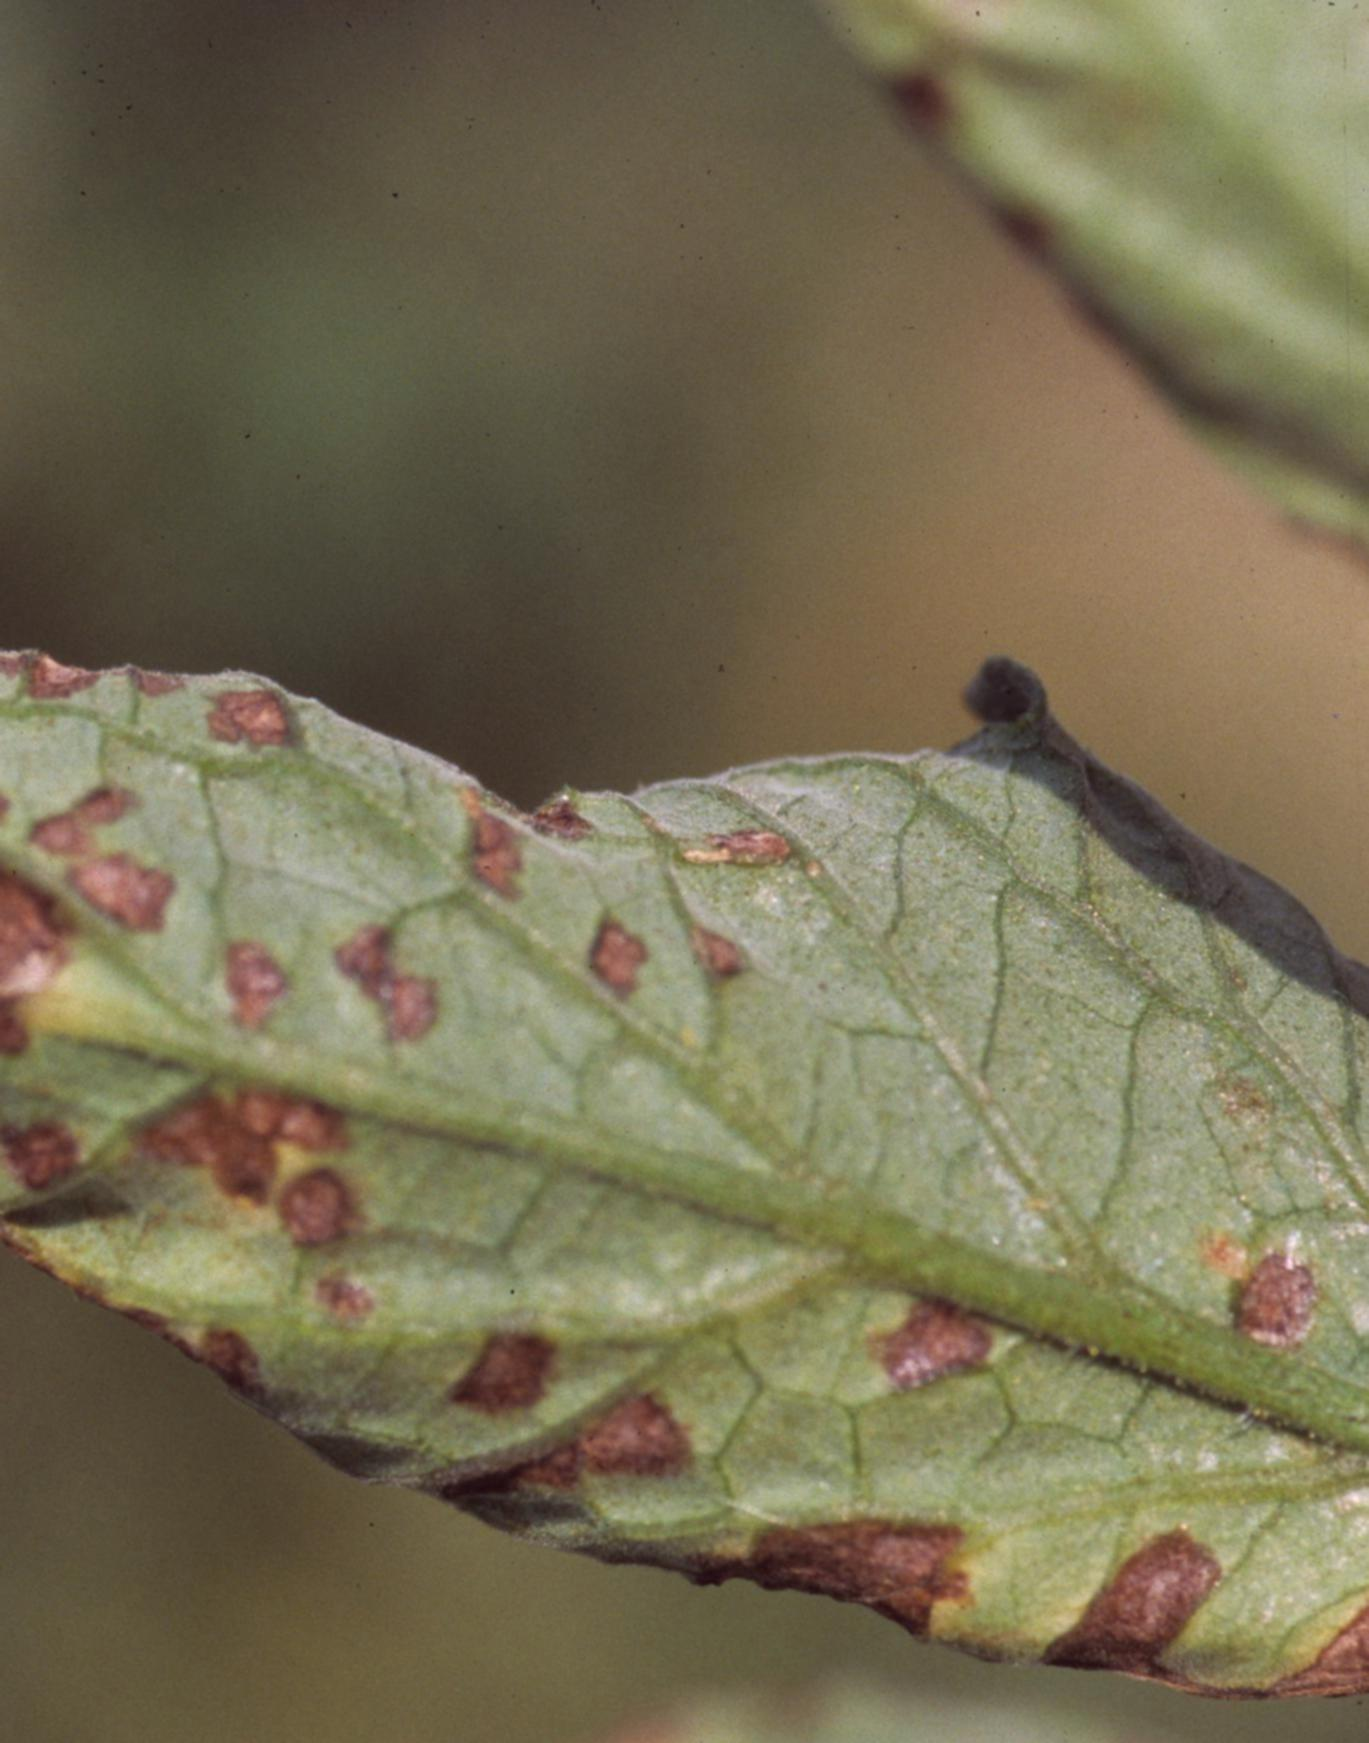Tomato leaf bacterial spot: (0, 555, 1369, 1743)
